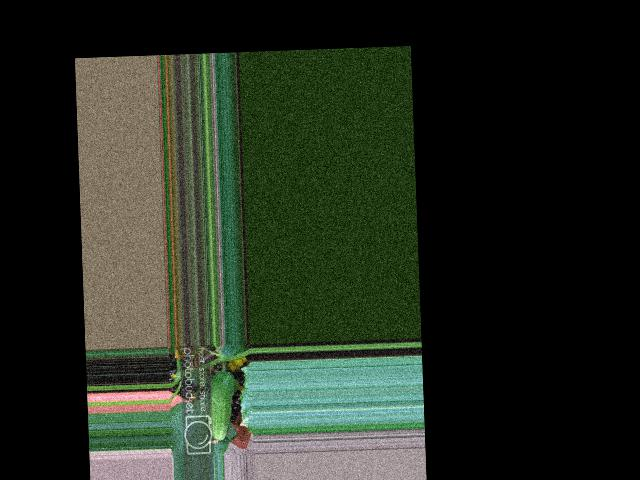cucumber: (206, 372, 236, 441)
